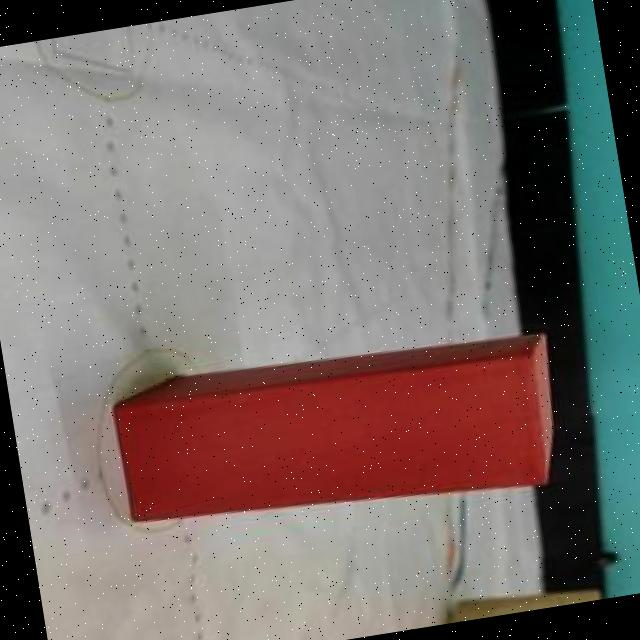redbox: (113, 322, 566, 550)
